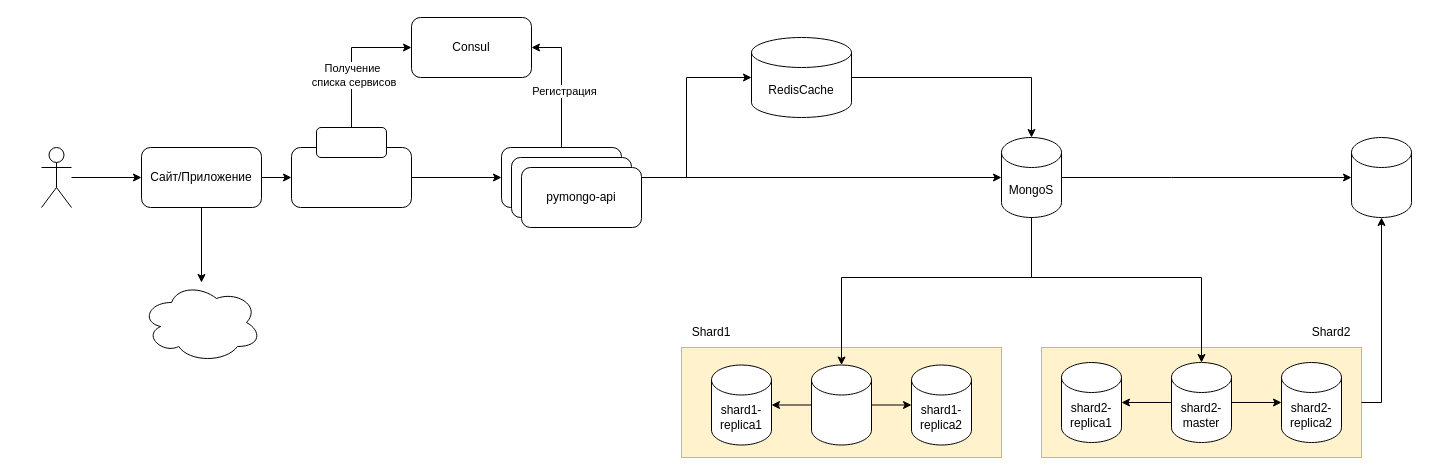
This 1429x475 diagram has some shape labels left out. The shapes that lost their labels are listed below. From the top down, each one's centre as x and y in pixels, then its label:
point 351,142: consul_kv
point 56,177: Пользователь
point 351,177: API Gateway
point 1381,177: ConfigServ
point 201,322: CDN
point 841,404: shard1-master
